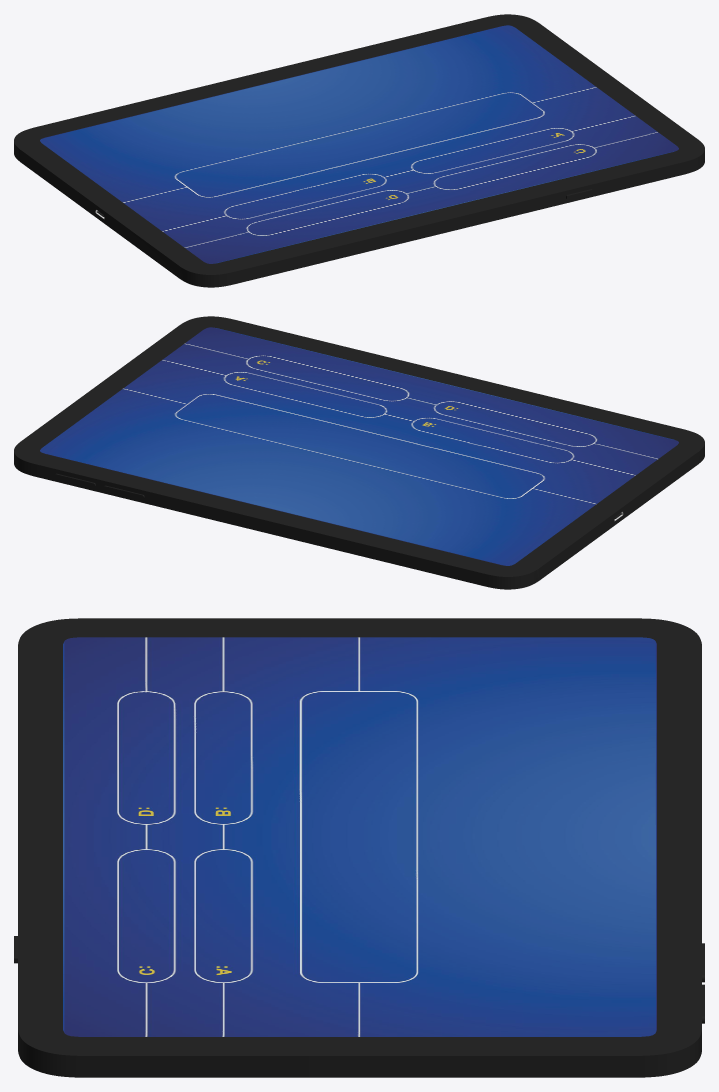
The model's file is tablet.fbx.
The picture shows the model from 3 angles, top to bottom: view 1: azimuth 30°, elevation 25°; view 2: azimuth 150°, elevation 25°; view 3: azimuth 270°, elevation 25°; orthographic projection. The views are drawn at different scales.
Parts seen in each view (by area): view 1: Cube; view 2: Cube; view 3: Cube.
Boxes of the visible parts, left/top/right/bottom form: Cube: left=14, top=14, right=704, bottom=287; Cube: left=14, top=316, right=704, bottom=589; Cube: left=14, top=618, right=704, bottom=1077.
Size of the model in its own units: 200 by 4.64 by 133.
3 materials, 1 textured.
